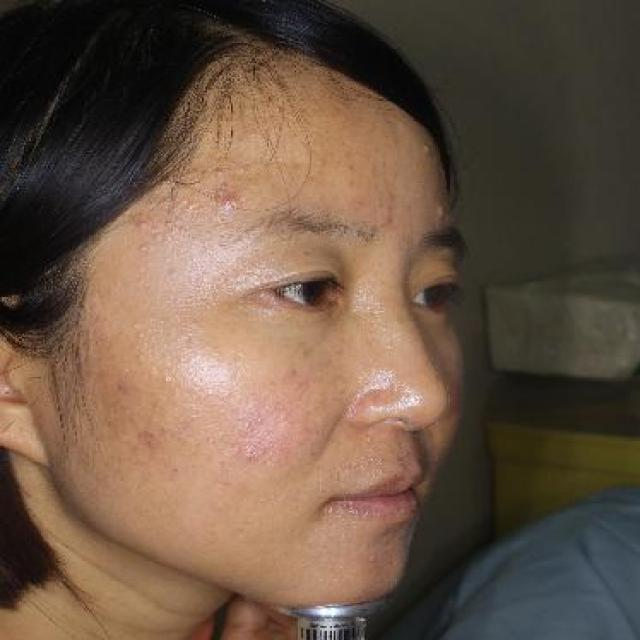nodules: (418, 137, 440, 160), (434, 198, 454, 222)
pustules: (216, 191, 248, 214)
whiteheads: (236, 450, 260, 468), (159, 215, 175, 228), (235, 161, 248, 177), (209, 165, 226, 177), (147, 224, 161, 236), (220, 182, 232, 192)
